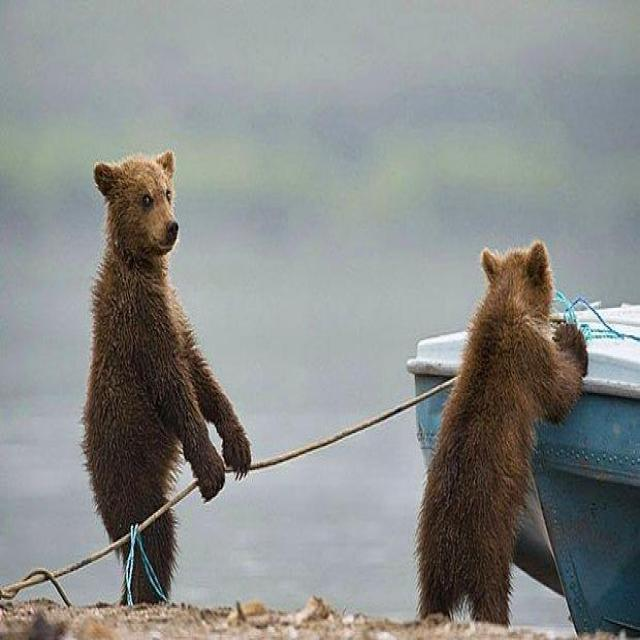Bear: (82, 151, 253, 606), (415, 242, 589, 626)
